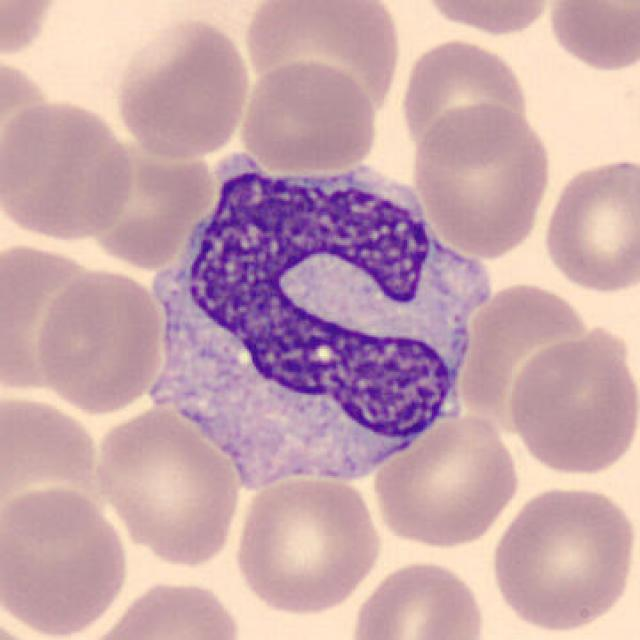Monocyte: (135, 140, 491, 502)
RBC: (90, 403, 244, 568), (407, 99, 555, 259), (487, 481, 638, 635), (231, 473, 386, 617), (368, 409, 523, 548), (110, 14, 254, 162), (462, 274, 592, 437), (0, 483, 133, 640), (32, 264, 167, 418), (0, 95, 139, 244), (503, 328, 638, 479), (242, 0, 404, 125), (0, 387, 108, 548), (396, 34, 534, 160), (234, 56, 380, 175), (0, 239, 104, 390), (538, 151, 640, 296), (91, 144, 218, 256), (347, 555, 489, 640), (79, 576, 245, 640), (542, 0, 638, 76), (414, 0, 558, 37), (0, 0, 66, 65)
